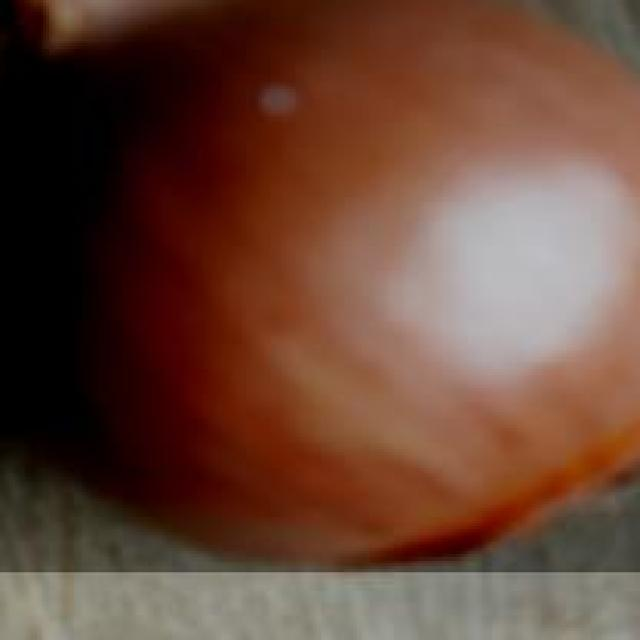onion: (0, 0, 640, 575)
